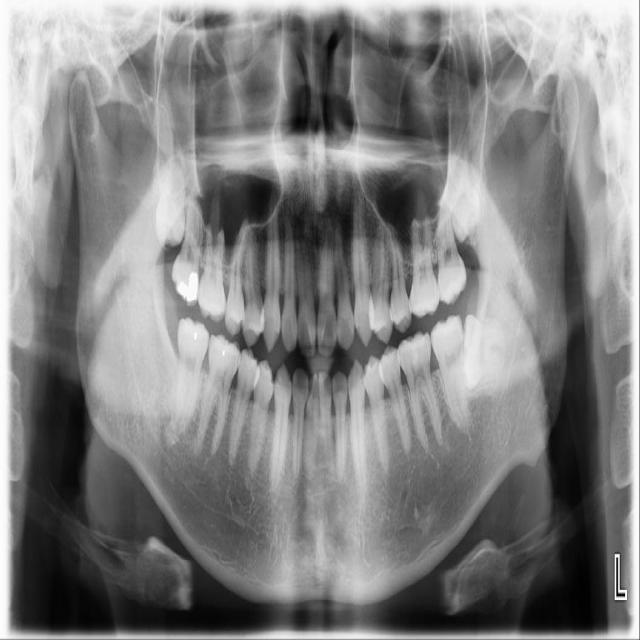Filling: (175, 268, 199, 302), (220, 340, 232, 358), (189, 325, 201, 340)
Periapical lesion: (159, 421, 195, 451)
impacted tooth: (465, 315, 516, 389), (449, 141, 485, 242), (155, 154, 187, 242)
